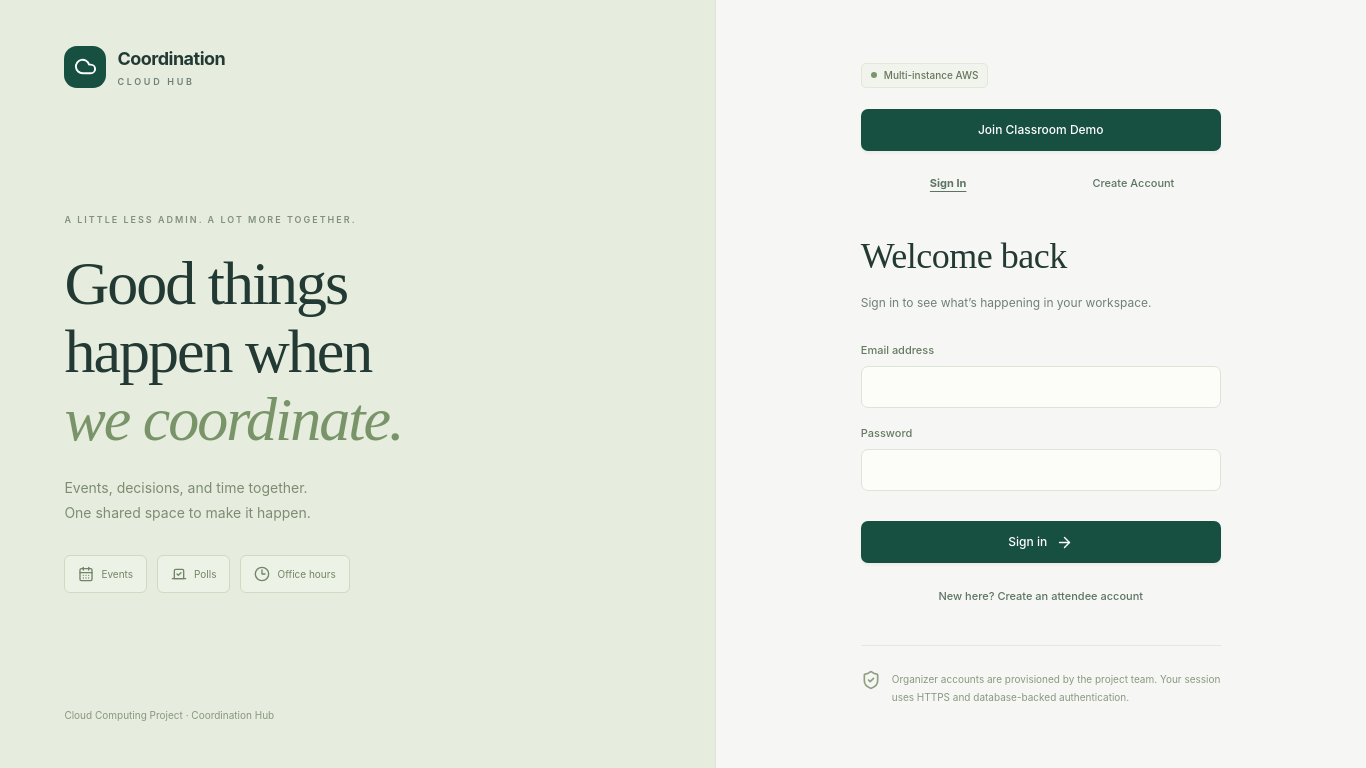
Scenario: offers classroom join with only a display name, redirects to the attendee dashboard, and supports exit
The image size is (1366, 768).
Click the button "Join Classroom Demo" at (1041, 130), box [861,109,1221,151]
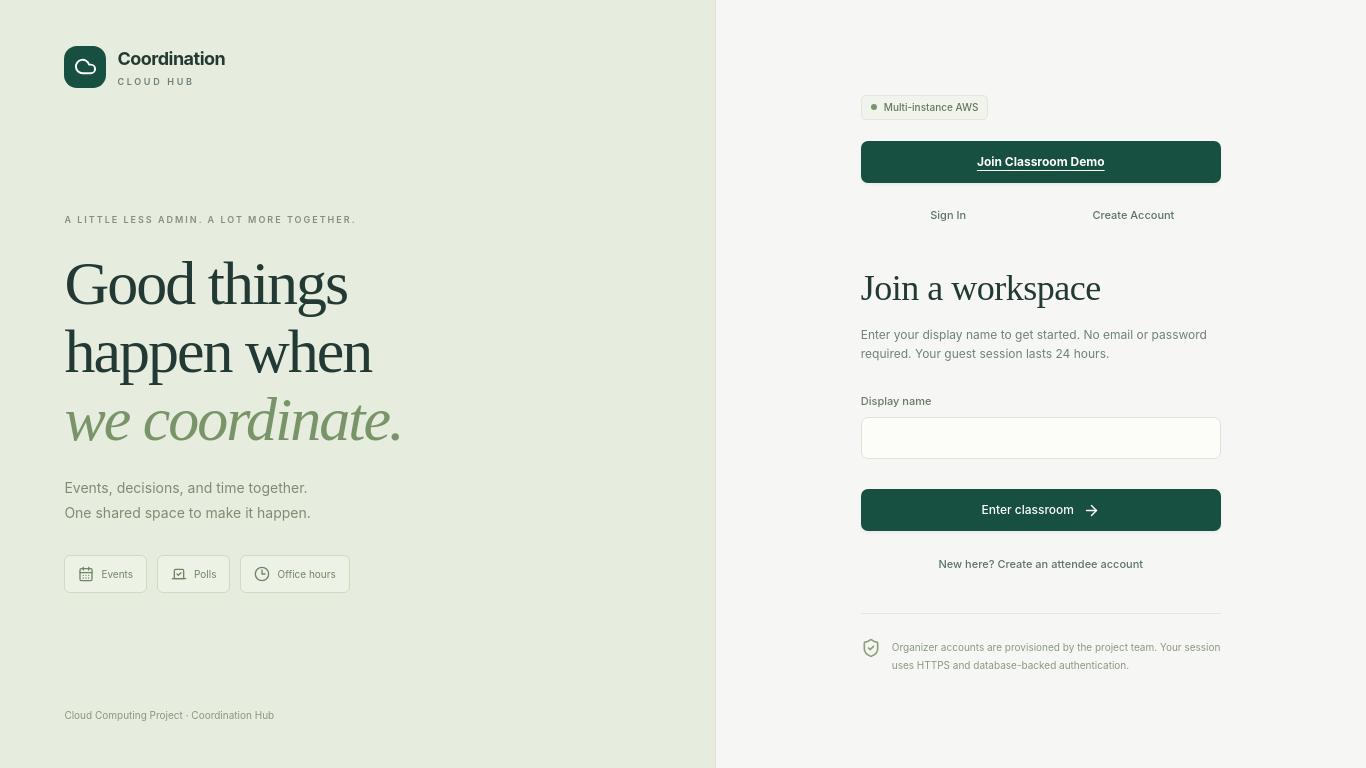
Now the label labelled "Email address" is gone
Type "Class Student" into the field labelled "Display name" at (1041, 438), box [861,417,1221,459]
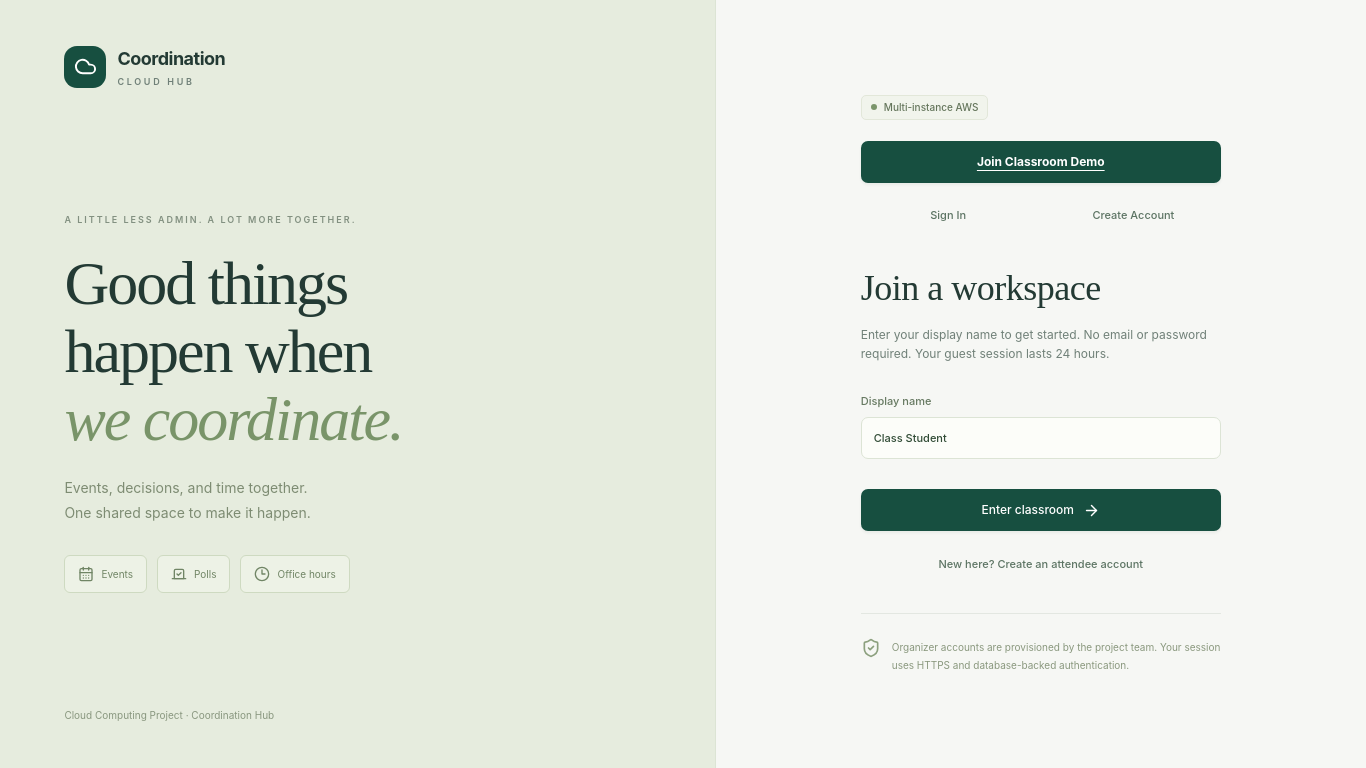
Click the button "Enter classroom" at (1041, 510), box [861,489,1221,531]
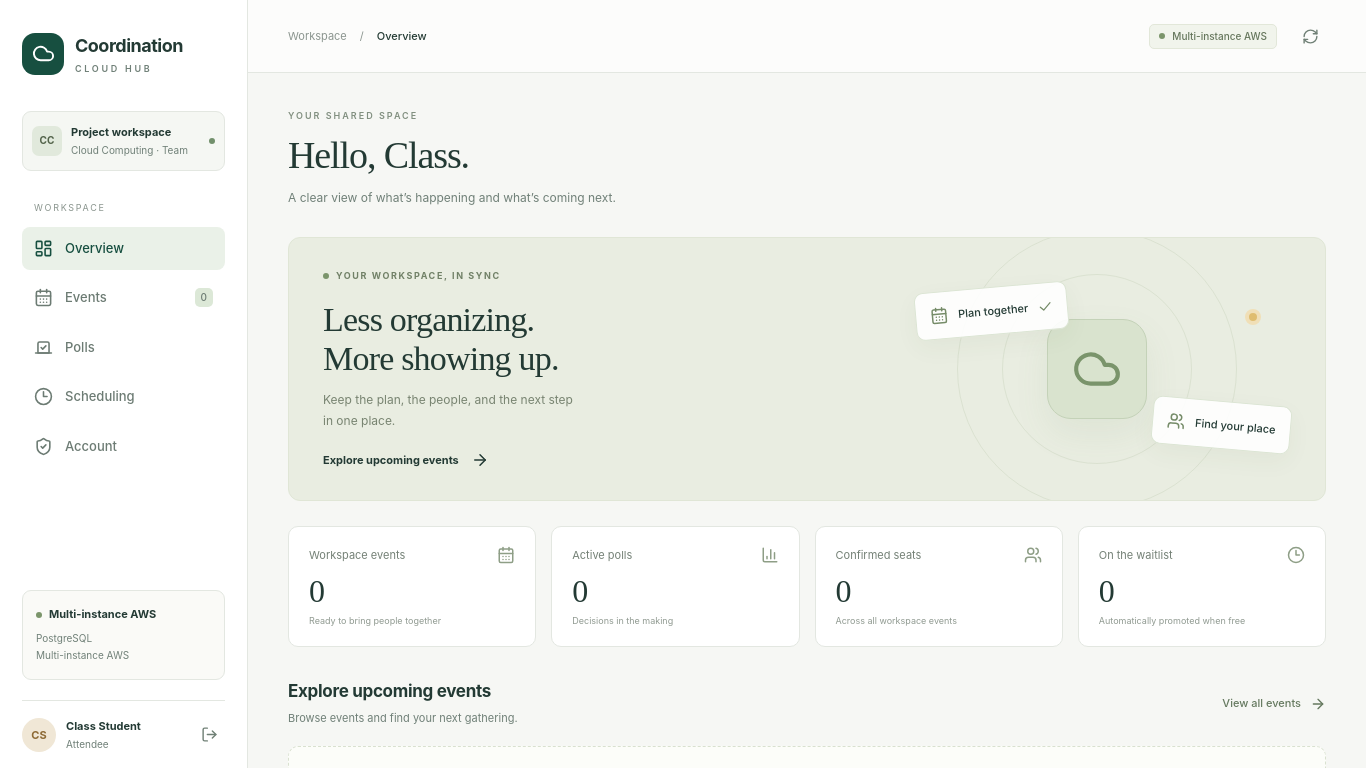
Now the heading "Hello, Class." is shown, box [288,134,469,176]
Click the link "Account" at (76, 446), box [34,437,117,456]
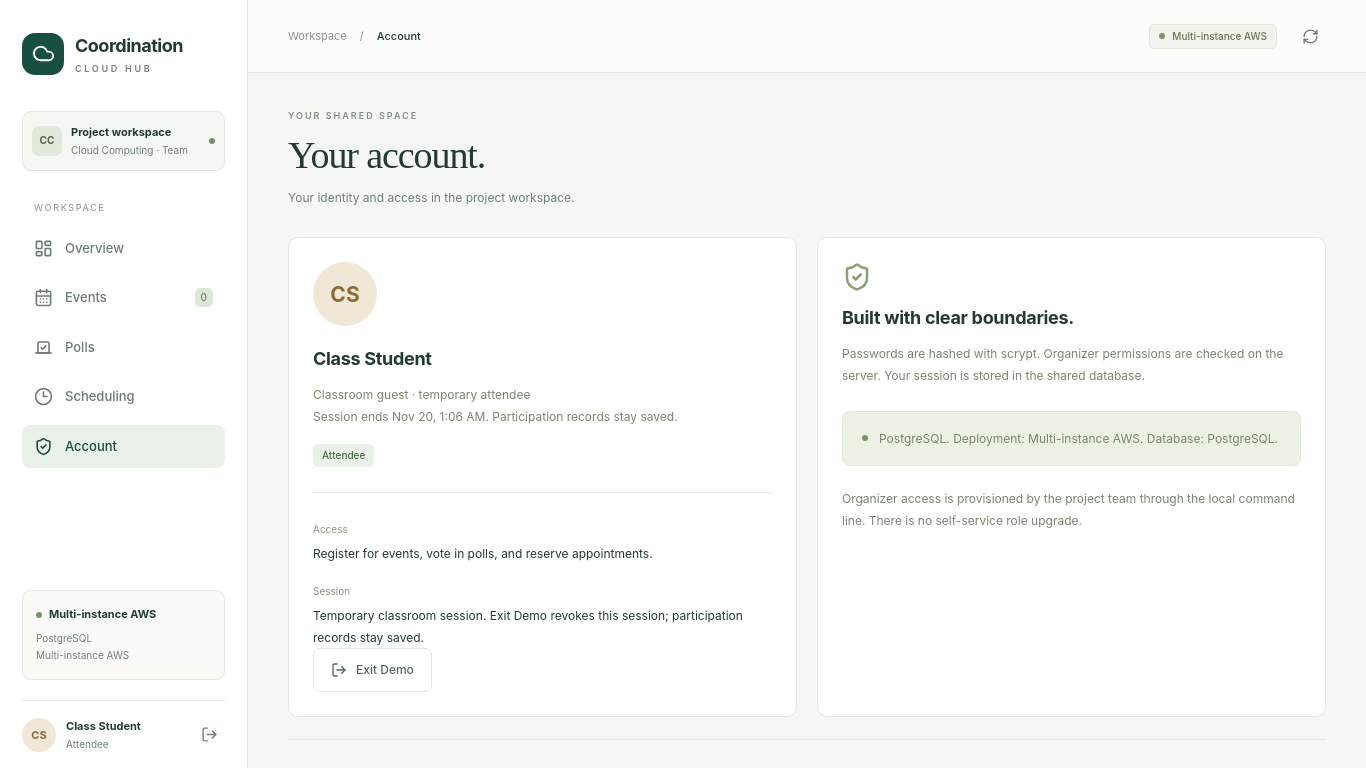
Now the text "Classroom guest · temporary attendee" is shown, box [313,388,530,402]
Click the button "Exit Demo" at (372, 670), box [313,648,432,692]
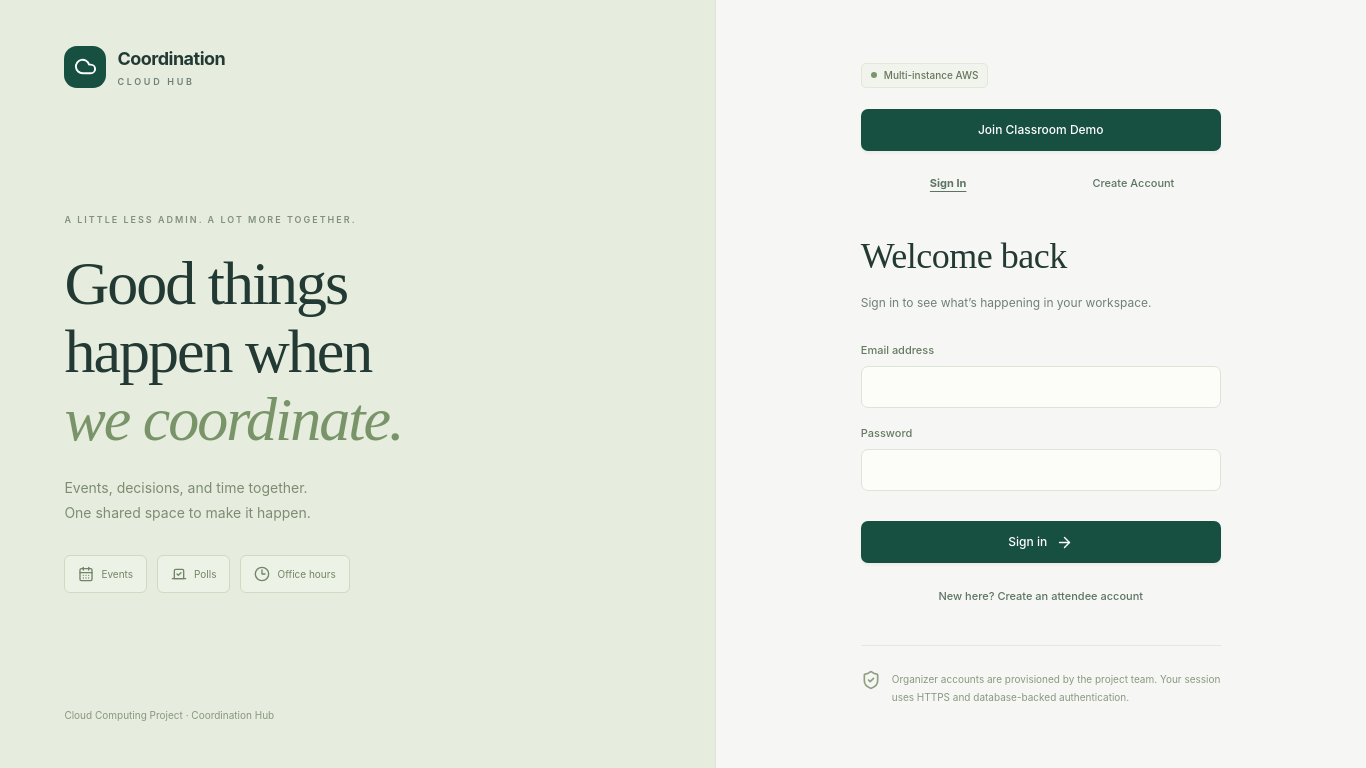
Now the heading "Welcome back" is shown, box [861,236,1067,276]
